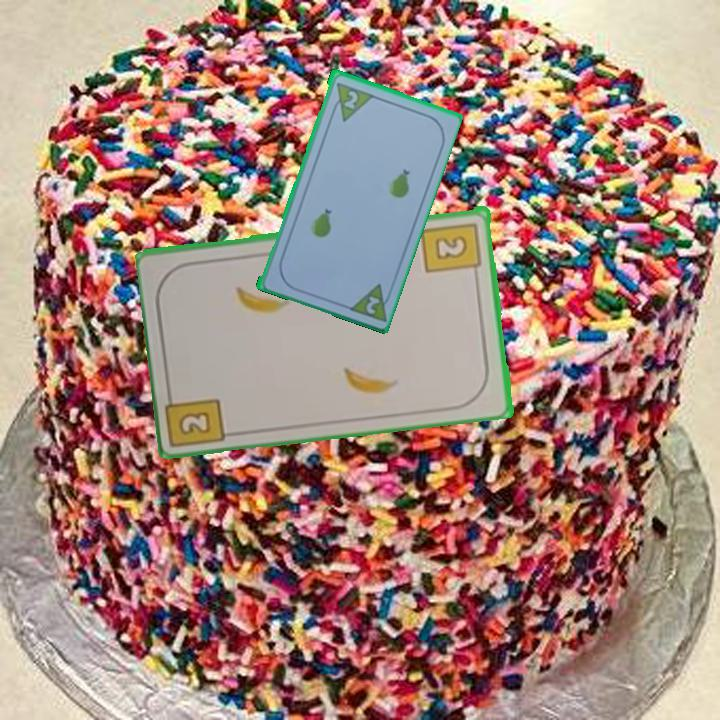2b: (166, 383, 231, 447), (419, 218, 485, 279)
2p: (344, 279, 395, 324), (340, 87, 361, 112)
